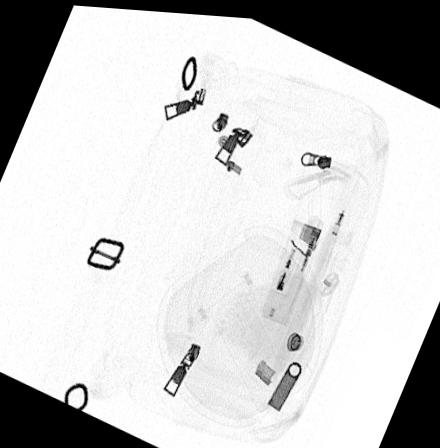Lighter: (260, 212, 323, 320)
